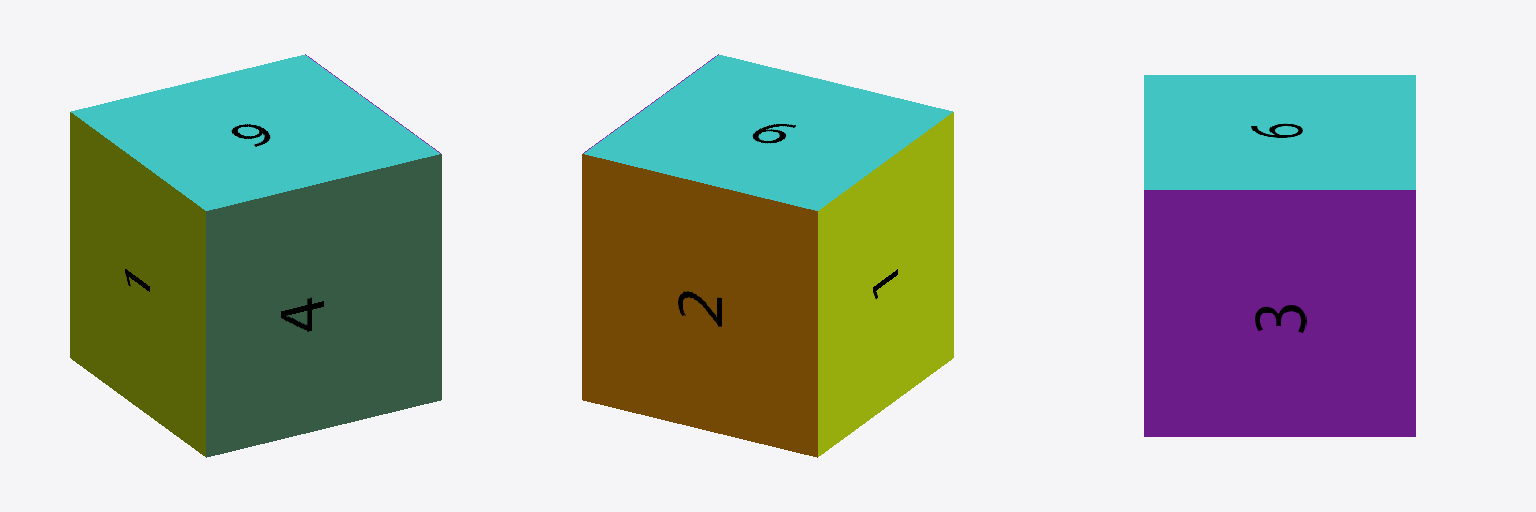
3 views of the same model, side by side, from view 1: azimuth 30°, elevation 25°; view 2: azimuth 150°, elevation 25°; view 3: azimuth 270°, elevation 25° (orthographic).
Parts seen in each view (by area): view 1: Cube; view 2: Cube; view 3: Cube.
Boxes of the visible parts, x1,y1,x2,y2 form: Cube: [70, 54, 441, 457]; Cube: [582, 54, 953, 457]; Cube: [1144, 75, 1415, 436].
Size of the model in its own units: 2 by 2 by 2.
Materials: 1 (1 with a texture image).